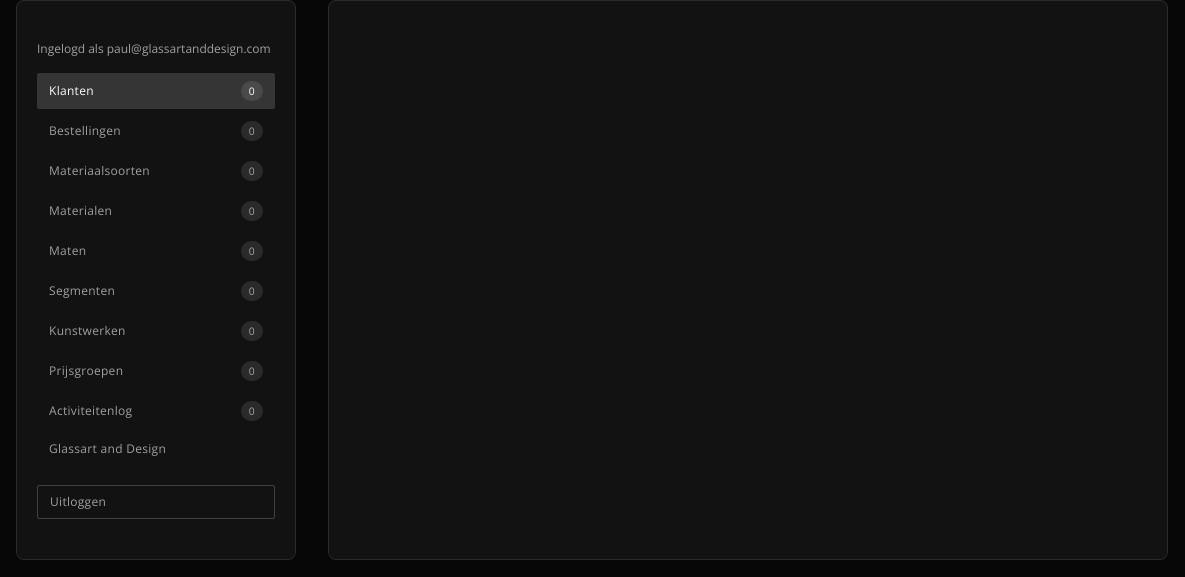
Test: BeheerShell › shows a load error on the Kunstwerken section when getDocs fails for kunstwerken
The width and height of the screenshot is (1185, 577).
Click the button with test id "beheer-nav-kunstwerken" at point(156, 331), box 37,313 -> 275,349
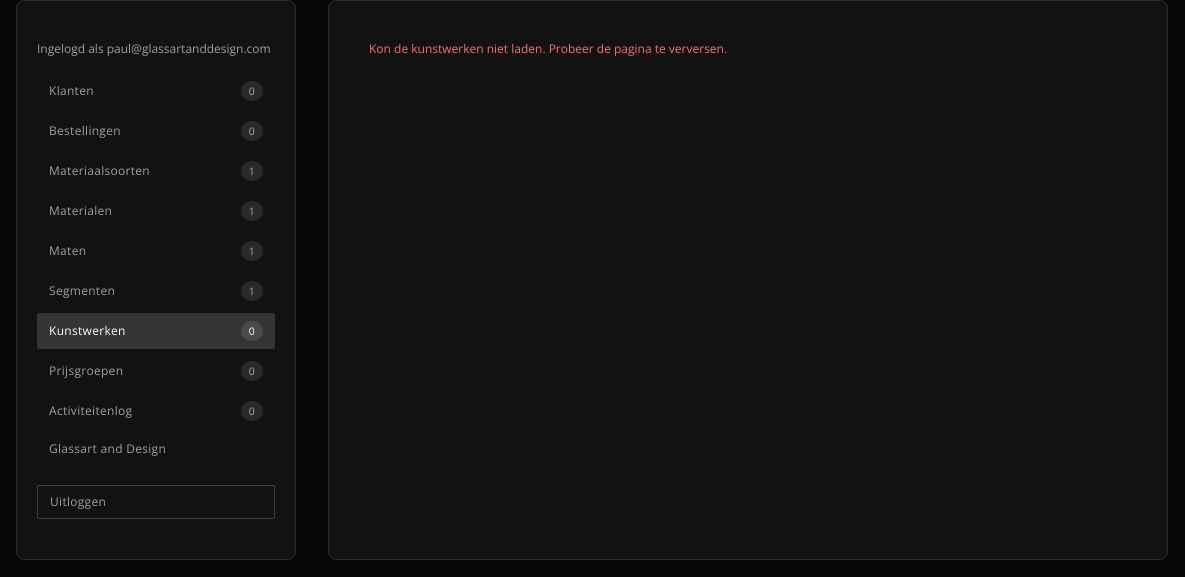
Result: the text with test id "kunstwerken-error" reads "Kon de kunstwerken niet laden. Probeer de pagina te verversen." at 369,40 -> 727,57
